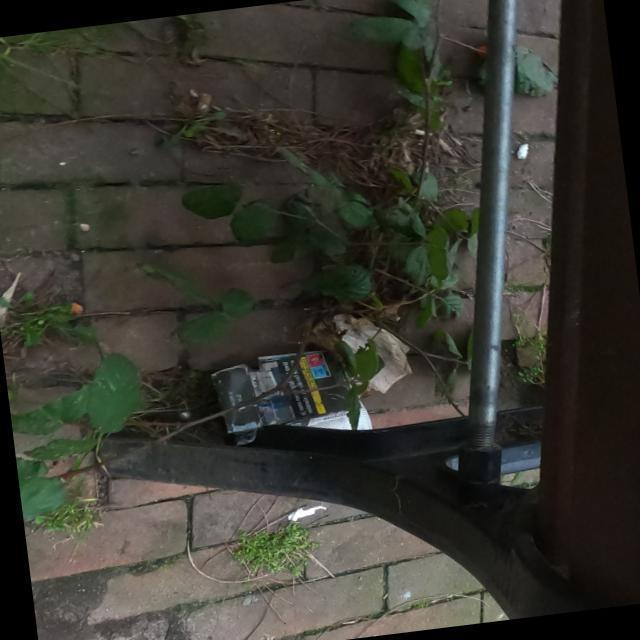Paper: (205, 347, 372, 449)
